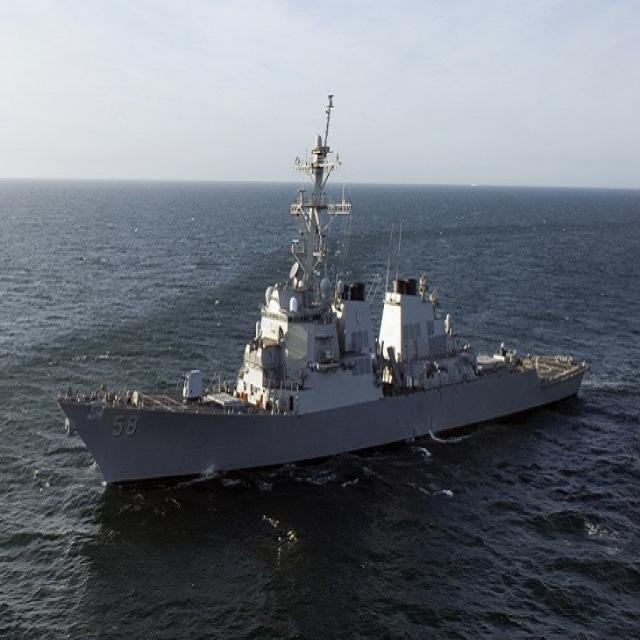navalvessels: (52, 104, 596, 490)
